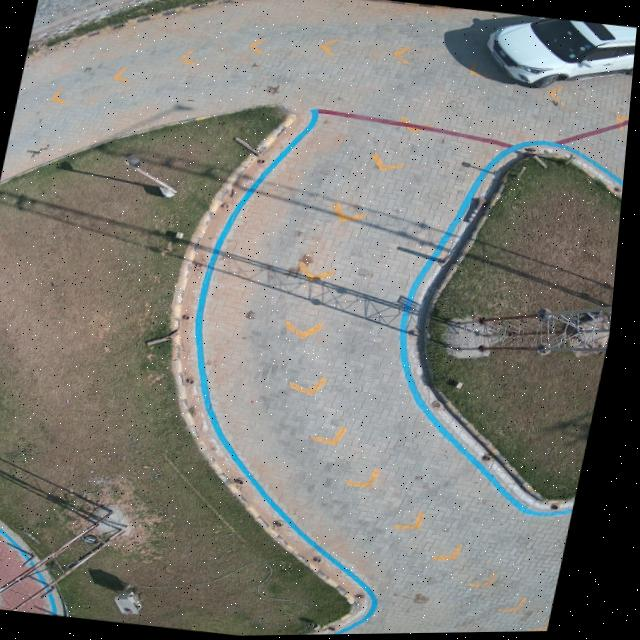car: (487, 19, 637, 90)
